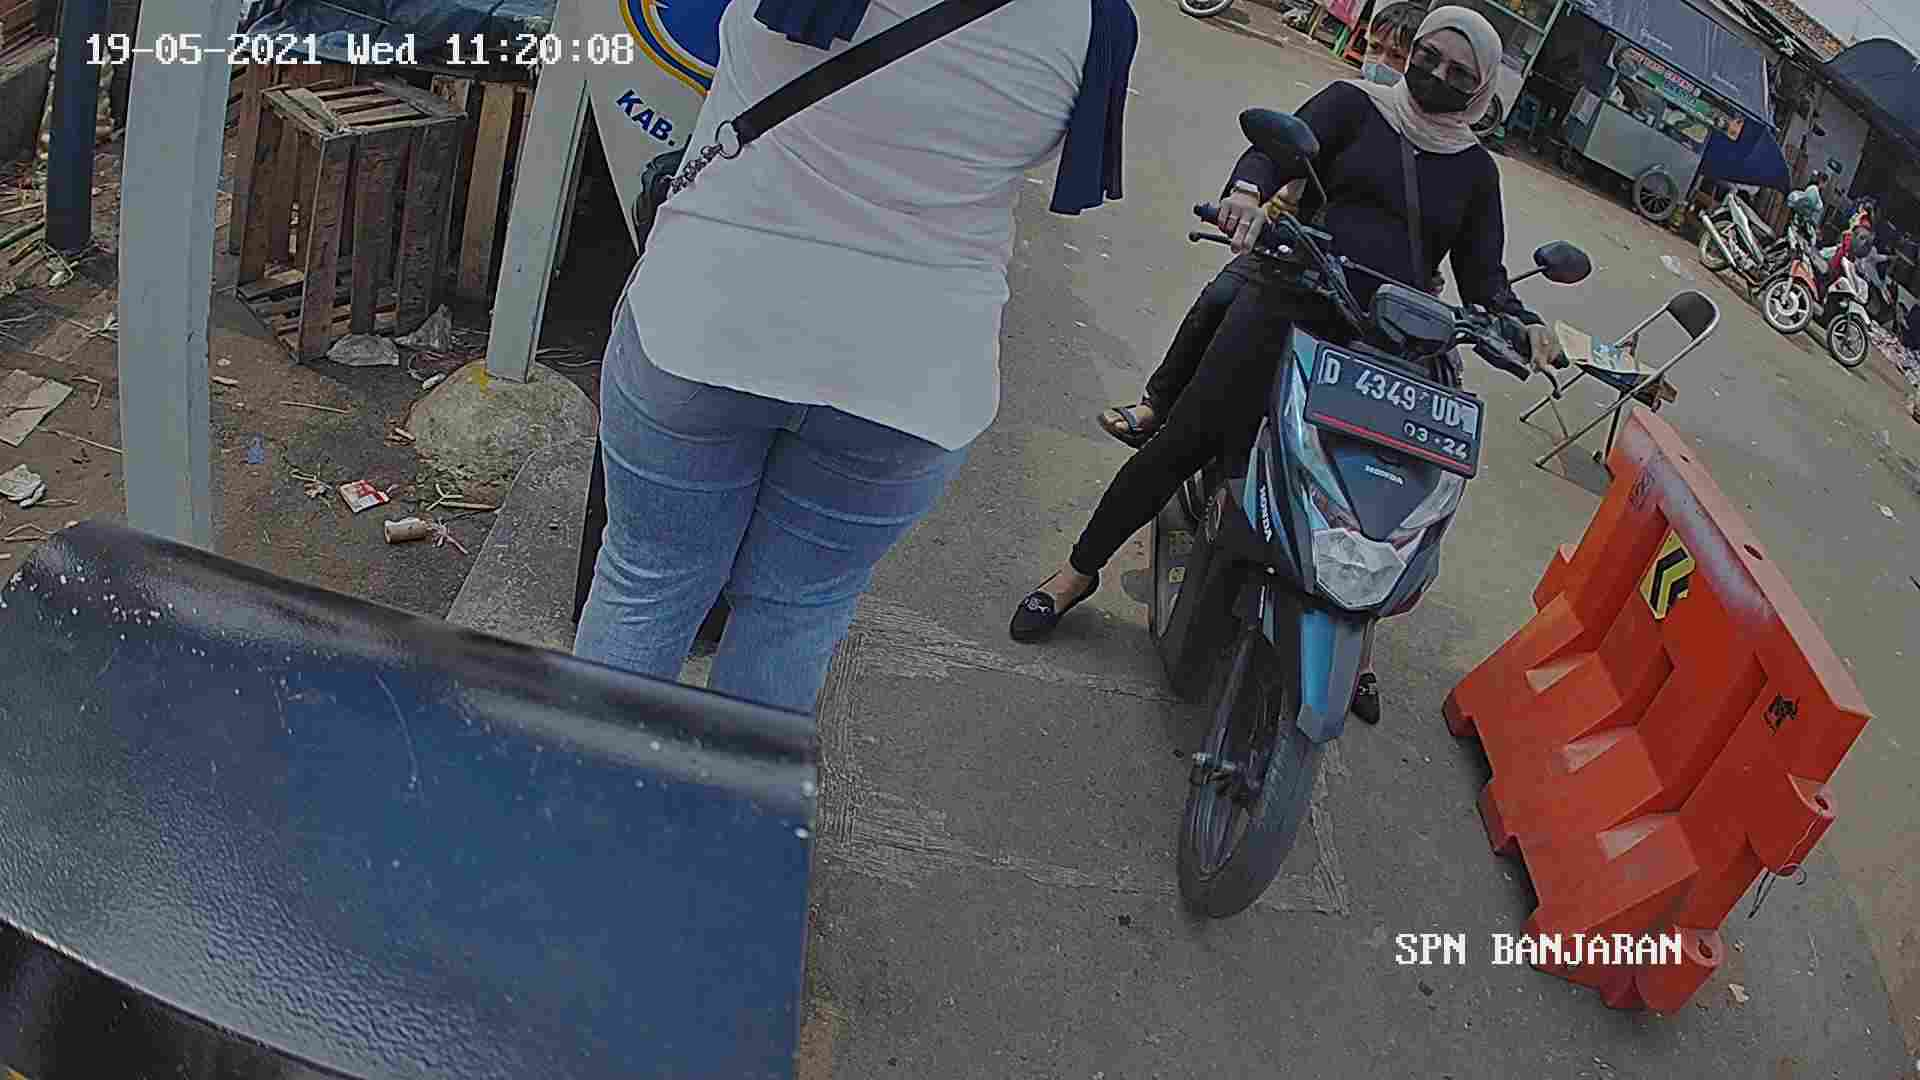motor: (1098, 214, 1485, 931)
